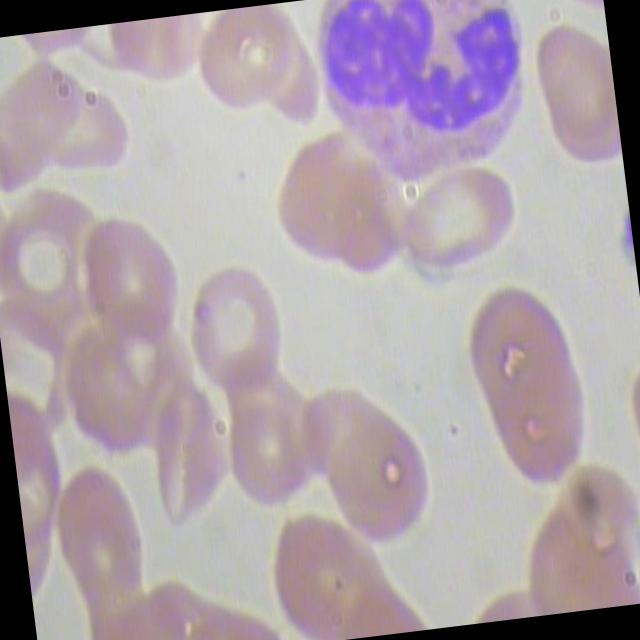RBC: (310, 403, 450, 553), (472, 359, 612, 509), (455, 280, 594, 430), (260, 128, 382, 274), (396, 156, 530, 284), (179, 249, 291, 400), (72, 204, 184, 355), (44, 461, 156, 612), (523, 12, 622, 174), (208, 386, 324, 518), (188, 2, 304, 124), (0, 52, 93, 203)
WBC: (303, 0, 540, 193)
